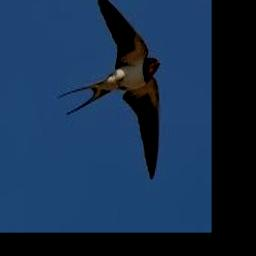Swallow: (59, 0, 162, 180)
